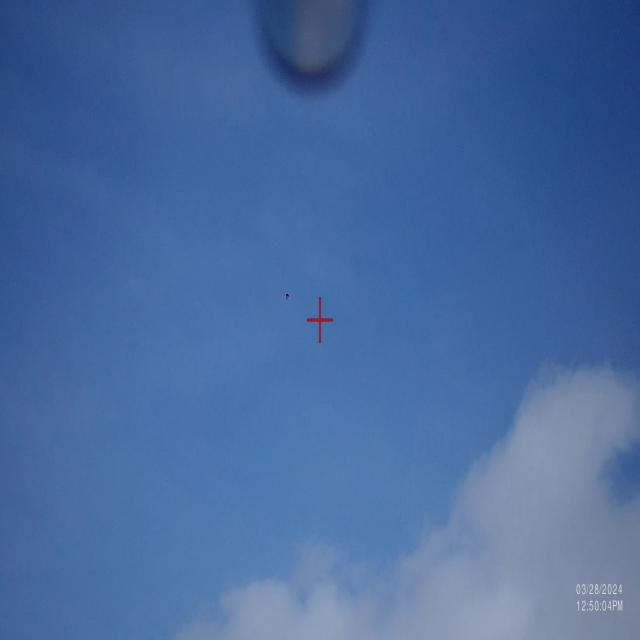entire: (282, 288, 290, 300)
